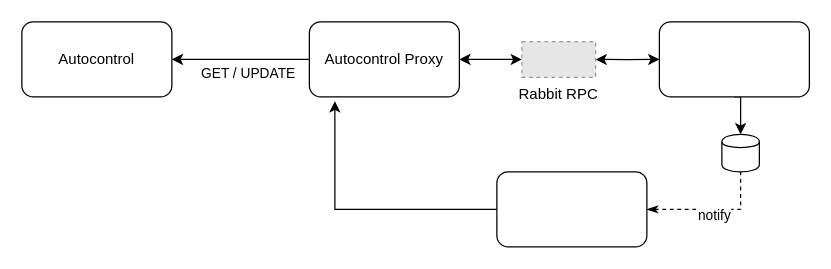
Image size: 831x269. Some labels were removed from this diagram. Grey dashed boxes stand in for pictures. The shapes that lost their labels are listed below. From the top down, each one's centre as x and y in pixels, then its label:
(x=733, y=59): Plato BackOffice
(x=571, y=209): Plato Outbox
